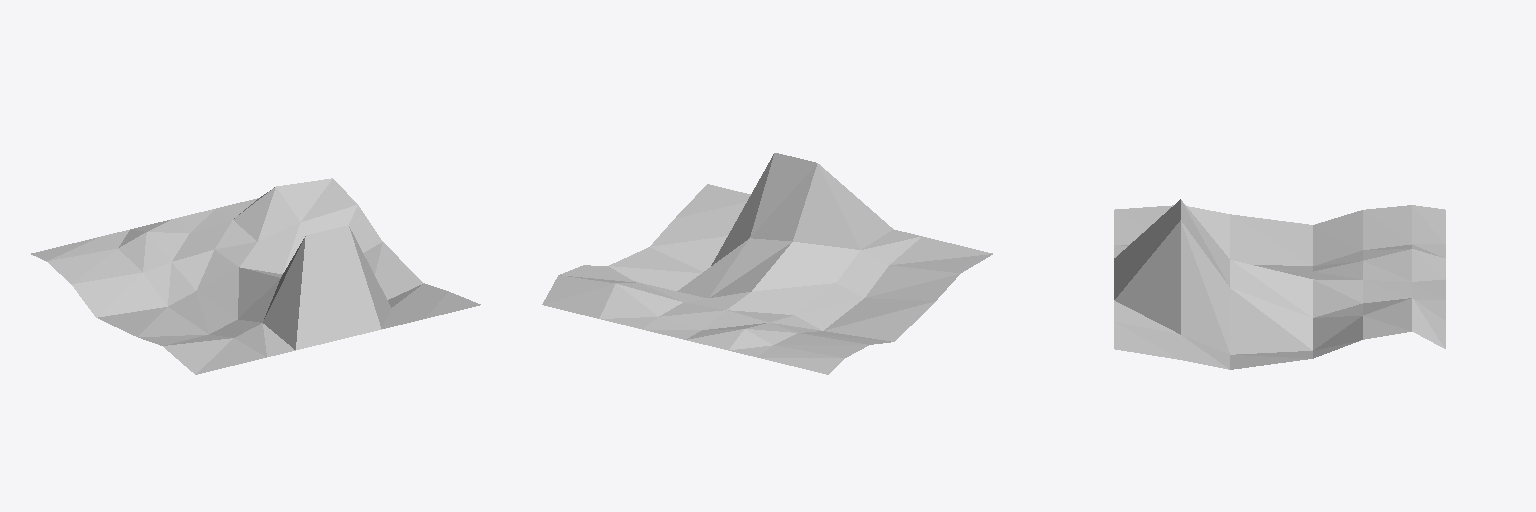
Rendered from ter4.obj.
3 renders of one model, left to right at view 1: azimuth 30°, elevation 25°; view 2: azimuth 150°, elevation 25°; view 3: azimuth 270°, elevation 25°, orthographic.
Visible parts, largest first — view 1: ter4; view 2: ter4; view 3: ter4.
Part boxes in pixels (x1,y1,x2,y2): ter4: (31, 178, 480, 374); ter4: (542, 153, 992, 374); ter4: (1114, 199, 1445, 369).
Size of the model in its own units: 500 by 189 by 500.